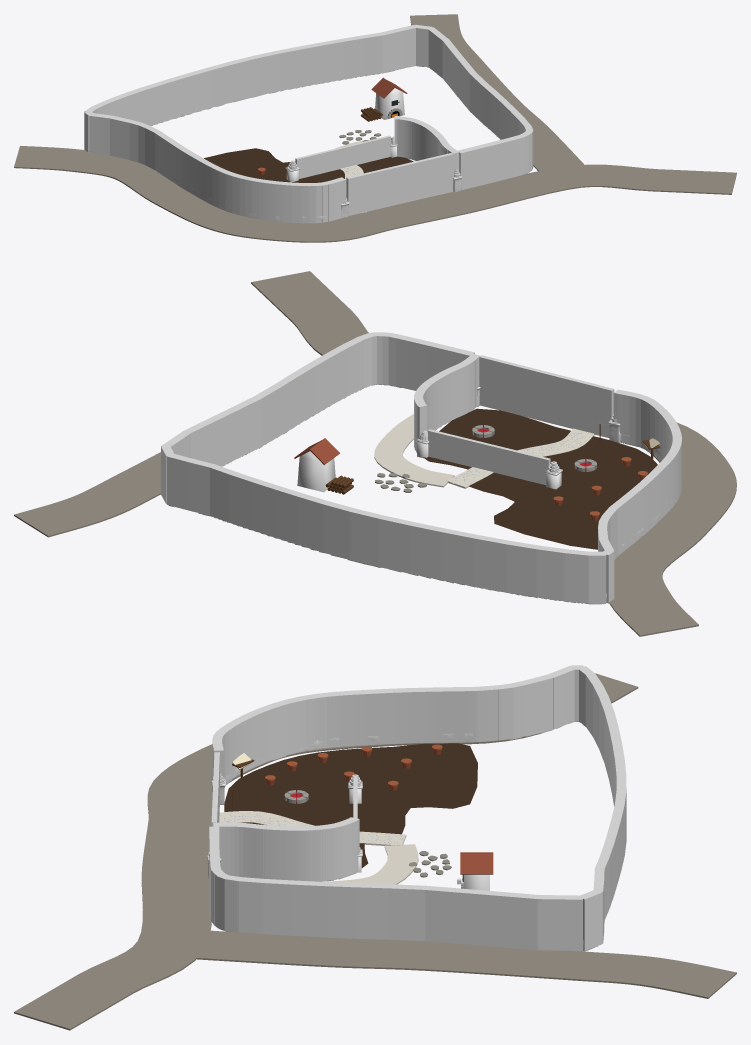
Rendered from AR_HansGrietje_omgeving.fbx.
3 renders of one model, top to bottom at view 1: azimuth 30°, elevation 25°; view 2: azimuth 150°, elevation 25°; view 3: azimuth 270°, elevation 25°, orthographic. The views are drawn at different scales.
Parts seen in each view (by area): view 1: static__MAT_pad_0, COLL_0, static__MAT_aarde_0, COLL_1, static__TEX_stuc_tuin_1, COLL_80, COLL_79, COLL_82, COLL_81, COLL_78, COLL_83, COLL_85 (+30 smaller); view 2: static__MAT_pad_0, static__MAT_aarde_0, COLL_0, COLL_1, static__MAT_grind_0, static__TEX_stuc_tuin_1, COLL_94, COLL_79, COLL_81, COLL_78, COLL_80, COLL_93 (+25 smaller); view 3: static__MAT_pad_0, static__MAT_aarde_0, COLL_93, COLL_94, COLL_92, COLL_95, COLL_99, COLL_98, COLL_96, COLL_97, COLL_100, static__MAT_grind_0 (+27 smaller).
Part boxes in pixels (x1=…): static__MAT_pad_0: x1=14, y1=14, x2=736, y2=242; COLL_0: x1=346, y1=153, x2=453, y2=215; static__MAT_aarde_0: x1=204, y1=148, x2=413, y2=182; COLL_1: x1=295, y1=135, x2=390, y2=178; static__TEX_stuc_tuin_1: x1=151, y1=65, x2=500, y2=182; COLL_80: x1=186, y1=67, x2=213, y2=113; COLL_79: x1=163, y1=74, x2=190, y2=120; COLL_82: x1=232, y1=55, x2=257, y2=101; COLL_81: x1=210, y1=61, x2=235, y2=107; COLL_78: x1=141, y1=80, x2=167, y2=125; COLL_83: x1=255, y1=50, x2=279, y2=95; COLL_85: x1=298, y1=42, x2=323, y2=86; static__MAT_pad_0: x1=14, y1=271, x2=736, y2=636; static__MAT_aarde_0: x1=423, y1=408, x2=657, y2=549; COLL_0: x1=479, y1=355, x2=614, y2=437; COLL_1: x1=428, y1=429, x2=550, y2=485; static__MAT_grind_0: x1=374, y1=414, x2=454, y2=487; static__TEX_stuc_tuin_1: x1=168, y1=384, x2=606, y2=604; COLL_94: x1=222, y1=397, x2=261, y2=462; COLL_79: x1=440, y1=528, x2=476, y2=586; COLL_81: x1=378, y1=515, x2=414, y2=573; COLL_78: x1=473, y1=535, x2=509, y2=592; COLL_80: x1=409, y1=522, x2=444, y2=579; COLL_93: x1=184, y1=412, x2=228, y2=466; static__MAT_pad_0: x1=14, y1=673, x2=736, y2=1030; static__MAT_aarde_0: x1=224, y1=743, x2=477, y2=867; COLL_93: x1=477, y1=890, x2=538, y2=950; COLL_94: x1=424, y1=886, x2=480, y2=945; COLL_92: x1=537, y1=895, x2=583, y2=951; COLL_95: x1=387, y1=884, x2=427, y2=941; COLL_99: x1=261, y1=879, x2=296, y2=935; COLL_98: x1=293, y1=880, x2=327, y2=937; COLL_96: x1=356, y1=883, x2=389, y2=939; COLL_97: x1=326, y1=882, x2=358, y2=938; COLL_100: x1=237, y1=877, x2=265, y2=934; static__MAT_grind_0: x1=322, y1=844, x2=418, y2=884.
Size of the model in its own units: 38.77 by 4.7 by 32.93.
